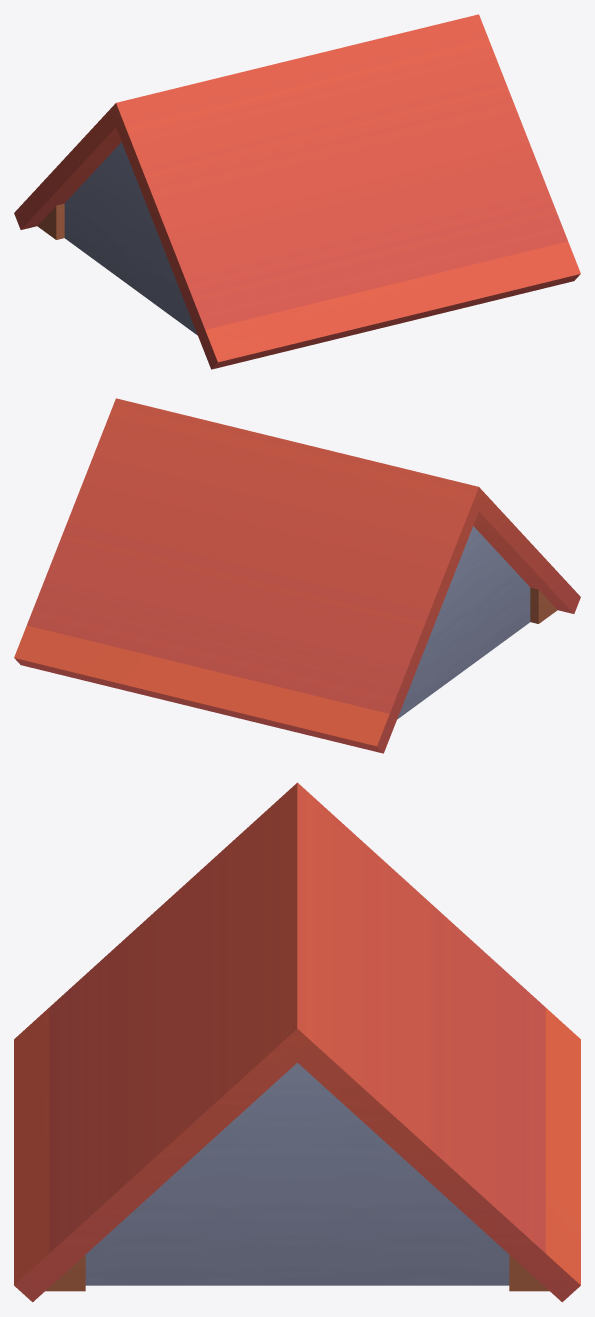
The model's file is roofGable.fbx.
3 renders of one model, top to bottom at view 1: azimuth 30°, elevation 25°; view 2: azimuth 150°, elevation 25°; view 3: azimuth 270°, elevation 25°, orthographic. The views are drawn at different scales.
Visible parts, largest first — view 1: roofGable; view 2: roofGable; view 3: roofGable.
Part boxes in pixels (x1,y1,x2,y2): roofGable: [14, 14, 580, 369]; roofGable: [14, 398, 580, 753]; roofGable: [14, 782, 580, 1302].
Bounding box in the file's own units: 1.1 × 1.07 × 0.5707.
